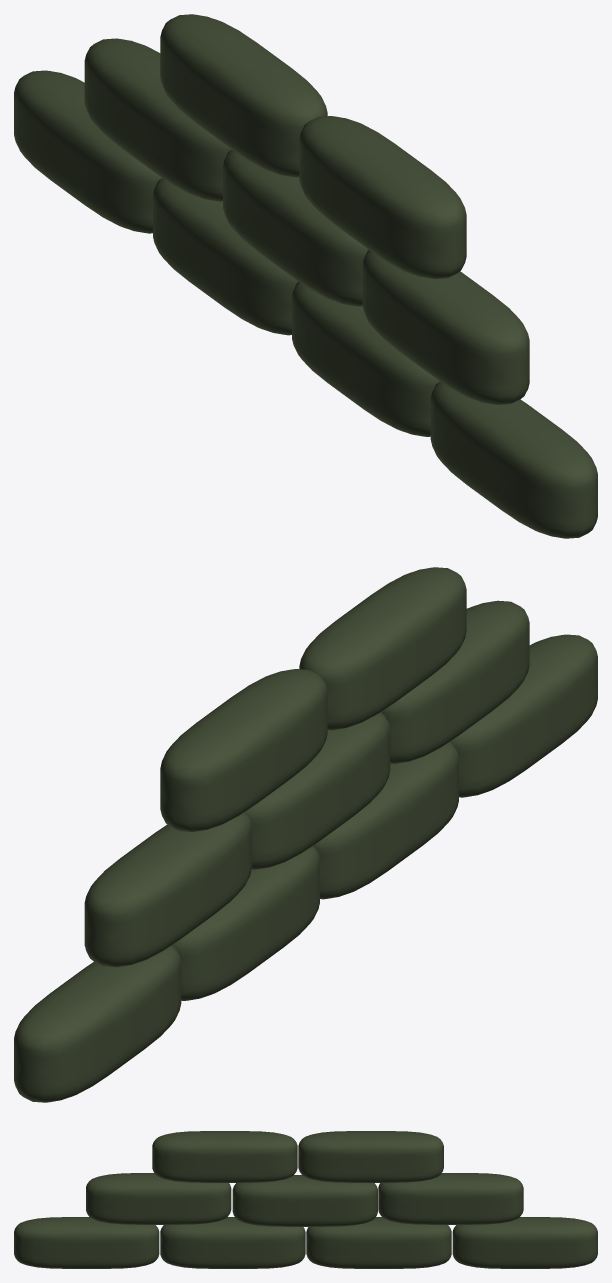
Rendered from Wall 2.fbx.
The picture shows the model from 3 angles, top to bottom: view 1: azimuth 30°, elevation 25°; view 2: azimuth 150°, elevation 25°; view 3: azimuth 270°, elevation 25°; orthographic projection. The views are drawn at different scales.
Visible parts, largest first — view 1: Cube; view 2: Cube; view 3: Cube.
Boxes of the visible parts, x1,y1,x2,y2 form: Cube: [14, 14, 597, 538]; Cube: [14, 567, 597, 1102]; Cube: [14, 1131, 597, 1268].
Bounding box in the file's own units: 81.86 × 283 × 1155.
